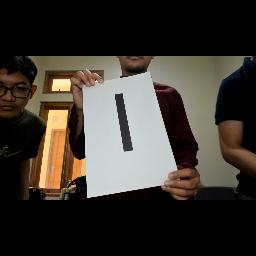i: (111, 90, 145, 158)
